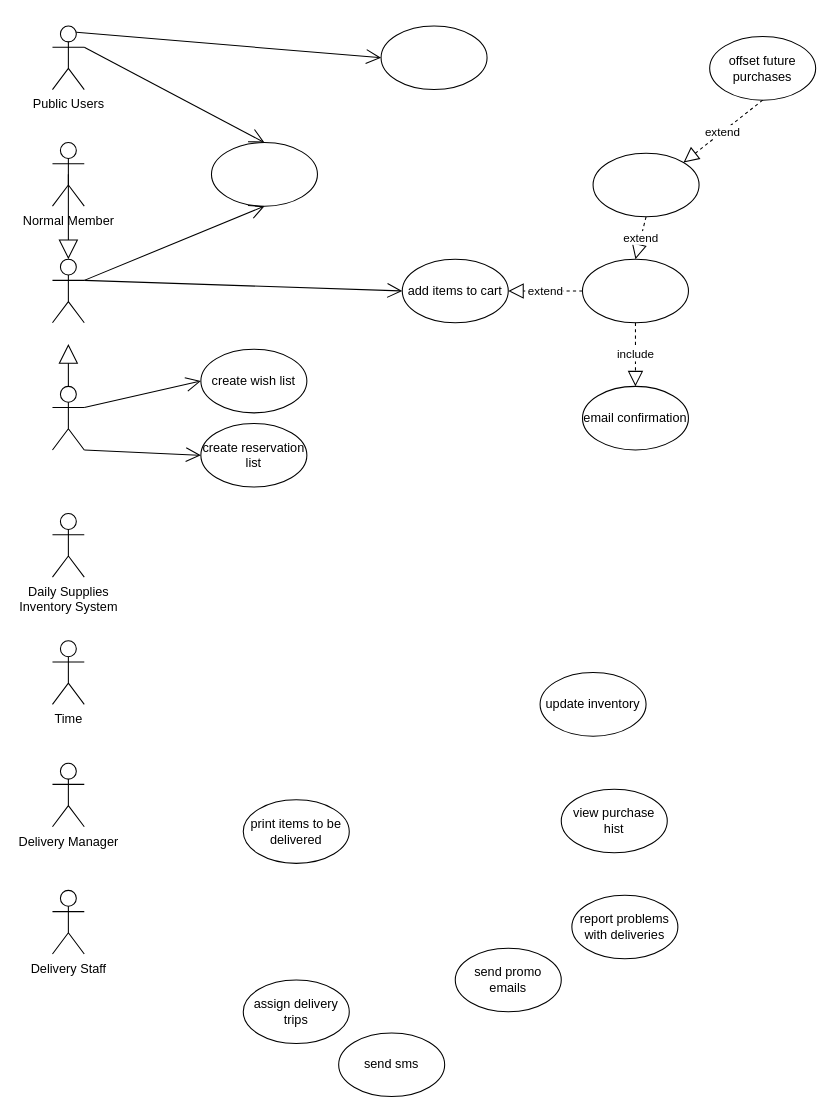
The diagram is 834 pixels wide and 1115 high, and some of its shapes have lost their labels. Each missing label, with the centre of its shape:
"accumulate pts" belongs at point 645,184.
"Browse Products" belongs at point 263,174.
"Join as member" belongs at point 433,57.
"make payment" belongs at point 634,290.
"Member" belongs at point 67,290.
"VIP Member" belongs at point 67,417.
